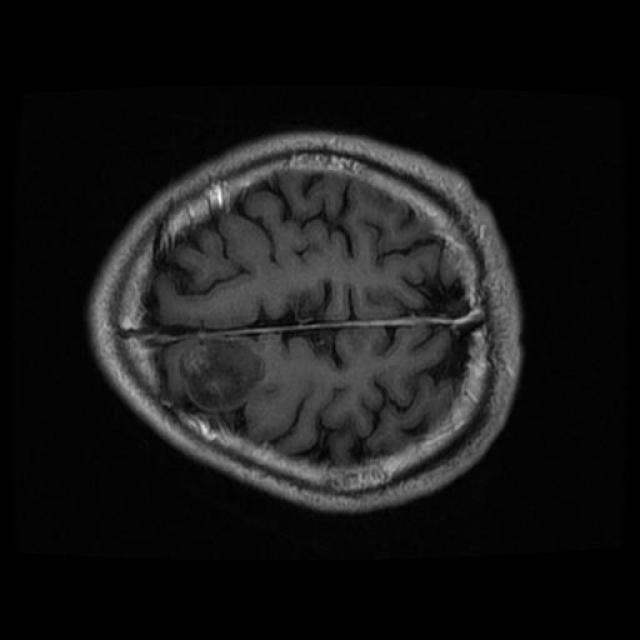Glioma: (178, 338, 264, 411)
